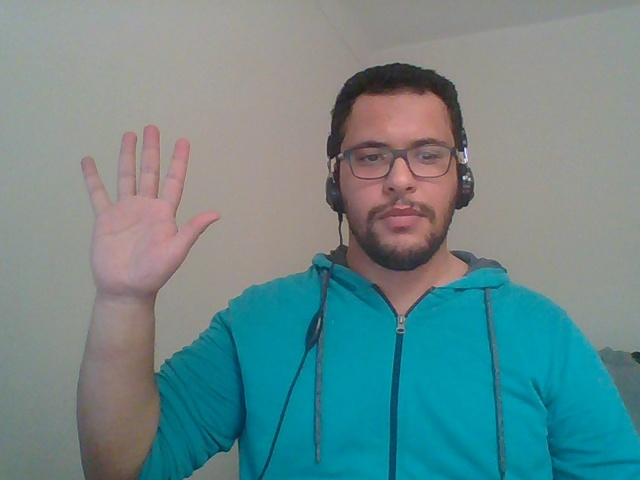hello: (55, 118, 237, 366)
